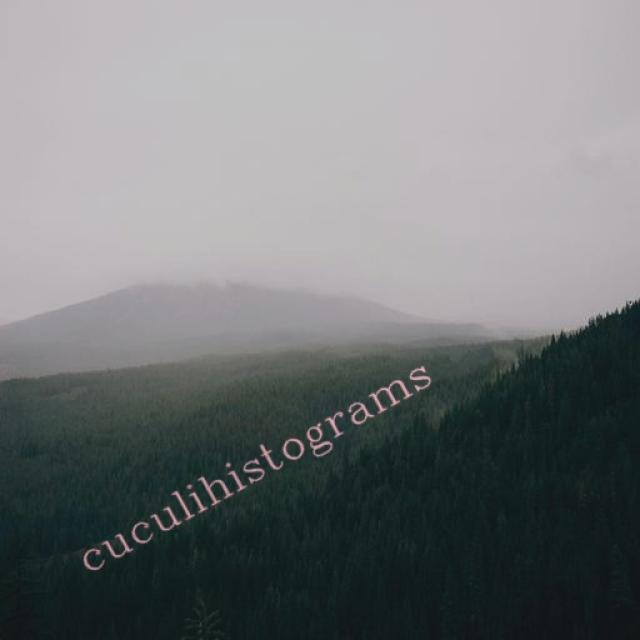watermark: (76, 349, 434, 582)
